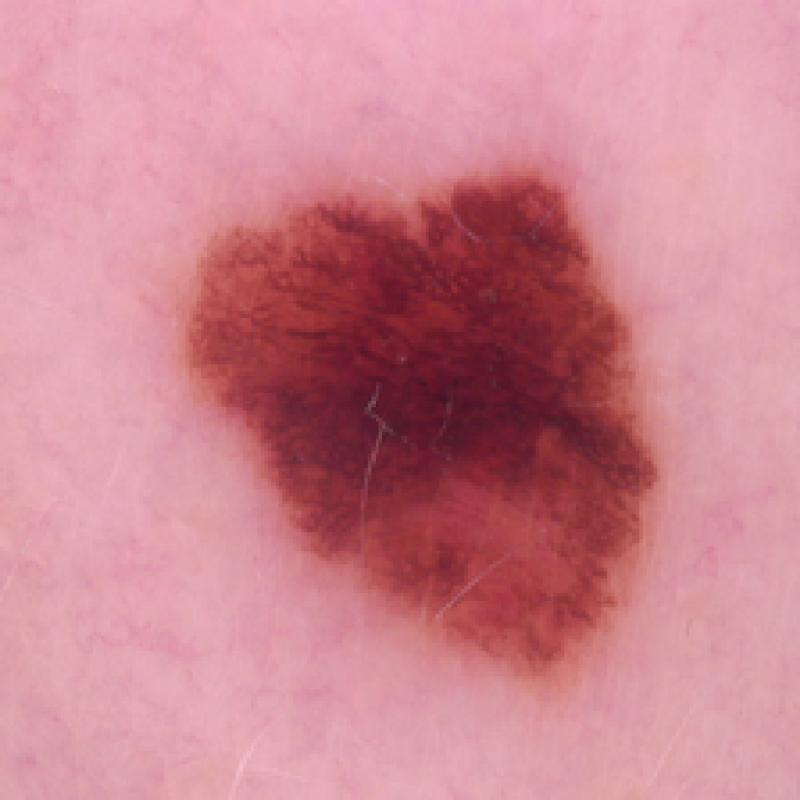benign: (150, 156, 704, 703)
